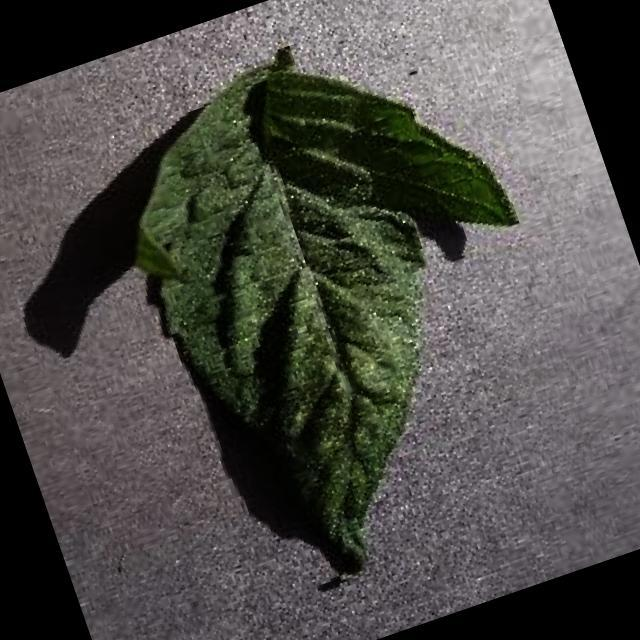Tomato spider mites leaf: (94, 6, 610, 614)
